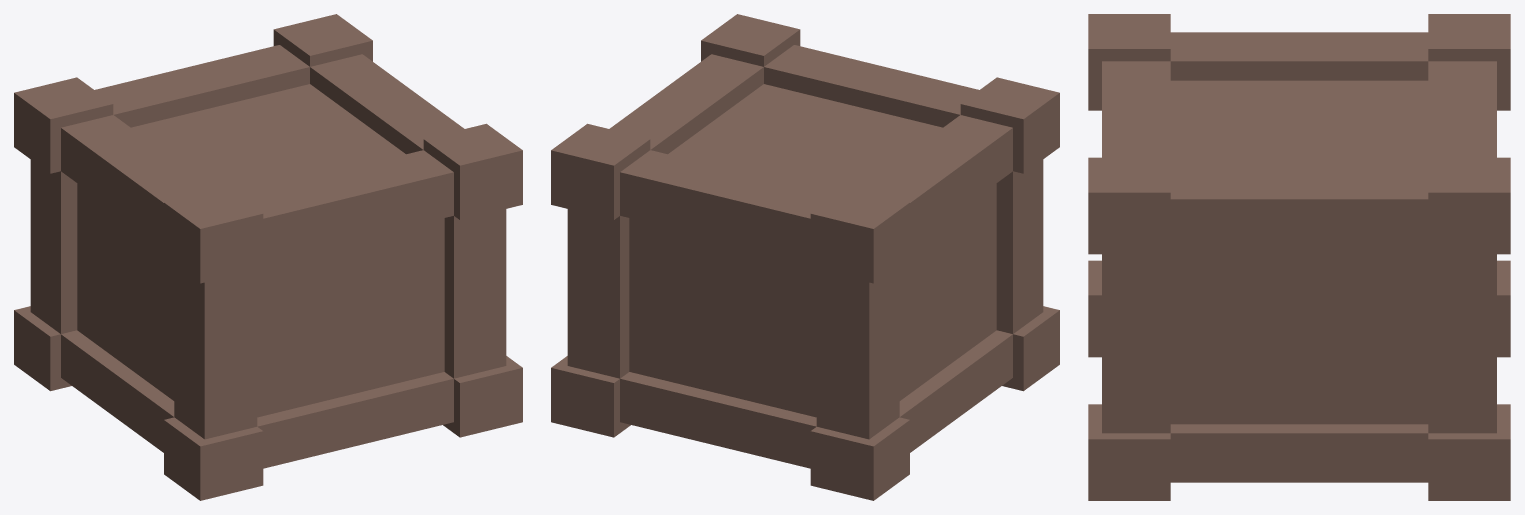
Rendered from crate_full_walled.glb.
3 views of the same model, side by side, from view 1: azimuth 30°, elevation 25°; view 2: azimuth 150°, elevation 25°; view 3: azimuth 270°, elevation 25° (orthographic). The views are drawn at different scales.
Visible parts, largest first — view 1: rock02_Mesh_007_Base_0.4238; view 2: rock02_Mesh_007_Base_0.4238; view 3: rock02_Mesh_007_Base_0.4238.
Part boxes in pixels (x1,y1,x2,y2): rock02_Mesh_007_Base_0.4238: [14, 14, 522, 500]; rock02_Mesh_007_Base_0.4238: [551, 14, 1059, 500]; rock02_Mesh_007_Base_0.4238: [1088, 14, 1510, 500].
Size of the model in its own units: 0.7038 by 0.5669 by 0.7038.
Materials: 1 (1 with a texture image).
